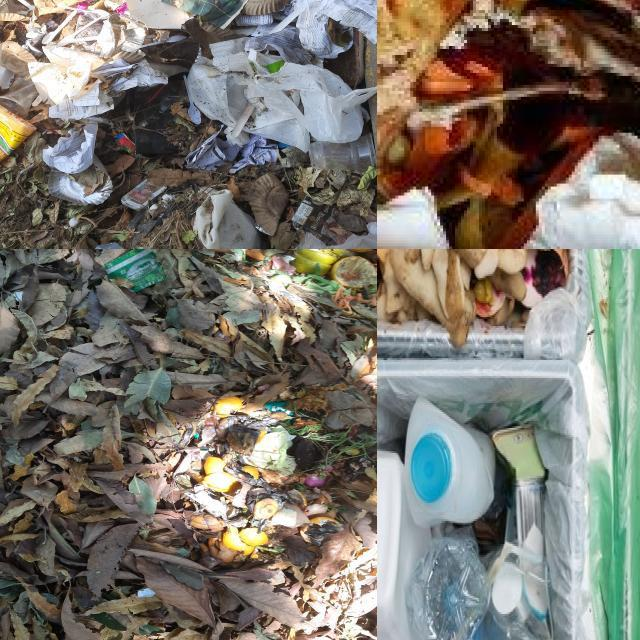Disposable: (492, 425, 545, 545)
Garbage: (0, 249, 377, 640), (377, 0, 640, 249), (377, 398, 552, 640), (377, 249, 570, 347)
Plastic_Container: (405, 398, 494, 526), (377, 449, 430, 640)
Plastic_bottle: (406, 527, 491, 640)
Plastic_wraper: (104, 249, 166, 292), (265, 402, 291, 414), (136, 588, 156, 597)
